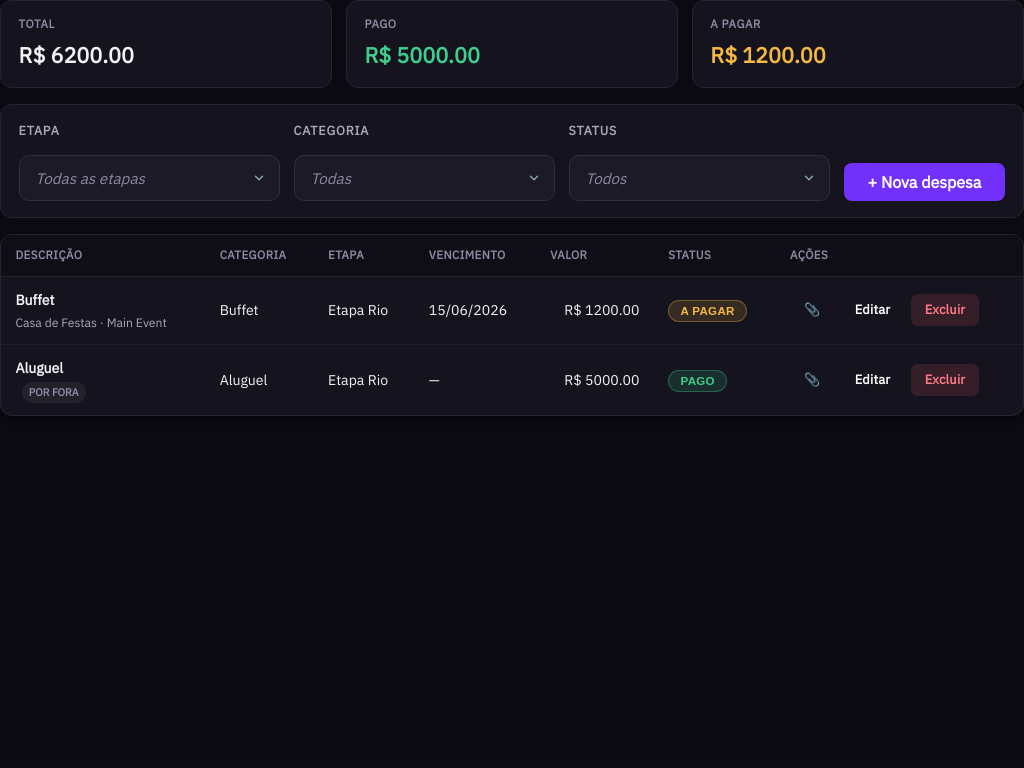
criação › valor precisa ser maior que zero
This screenshot has width=1024, height=768.
Expected: the row that starts with "Buffet" is shown, left=1, top=276, right=1023, bottom=345
Step 1. Click the button "+ Nova despesa" → (924, 182), box left=844, top=163, right=1005, bottom=201
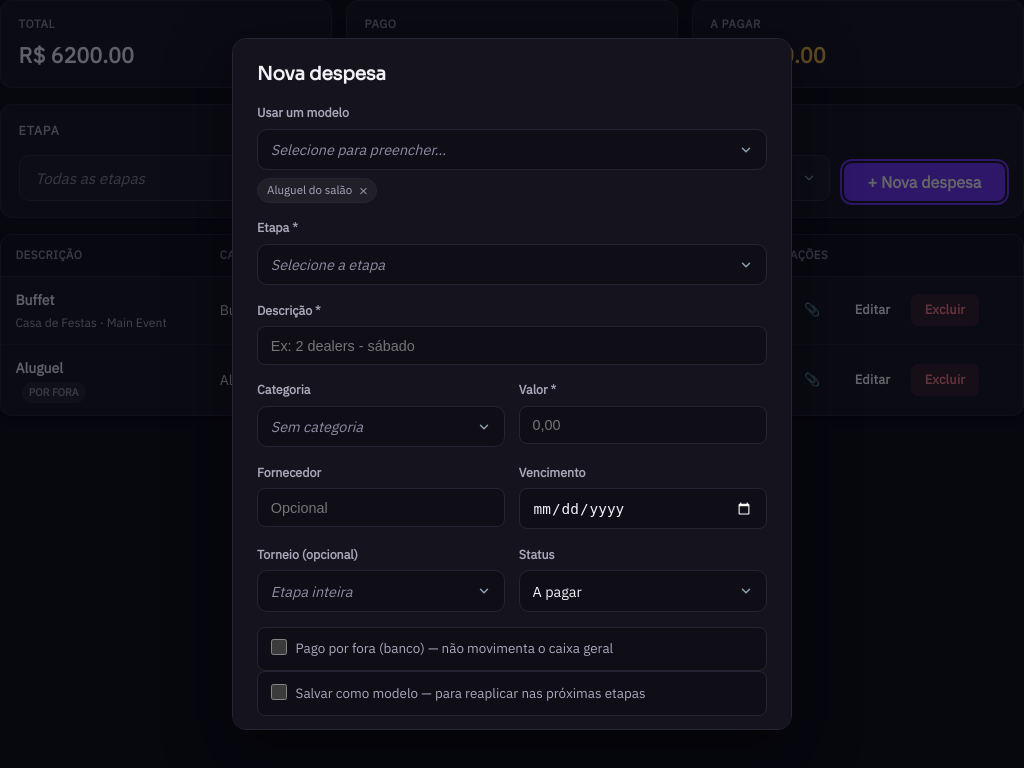
Step 2. Select "Etapa Rio" in the 2nd dropdown → (512, 264), box left=257, top=244, right=767, bottom=285
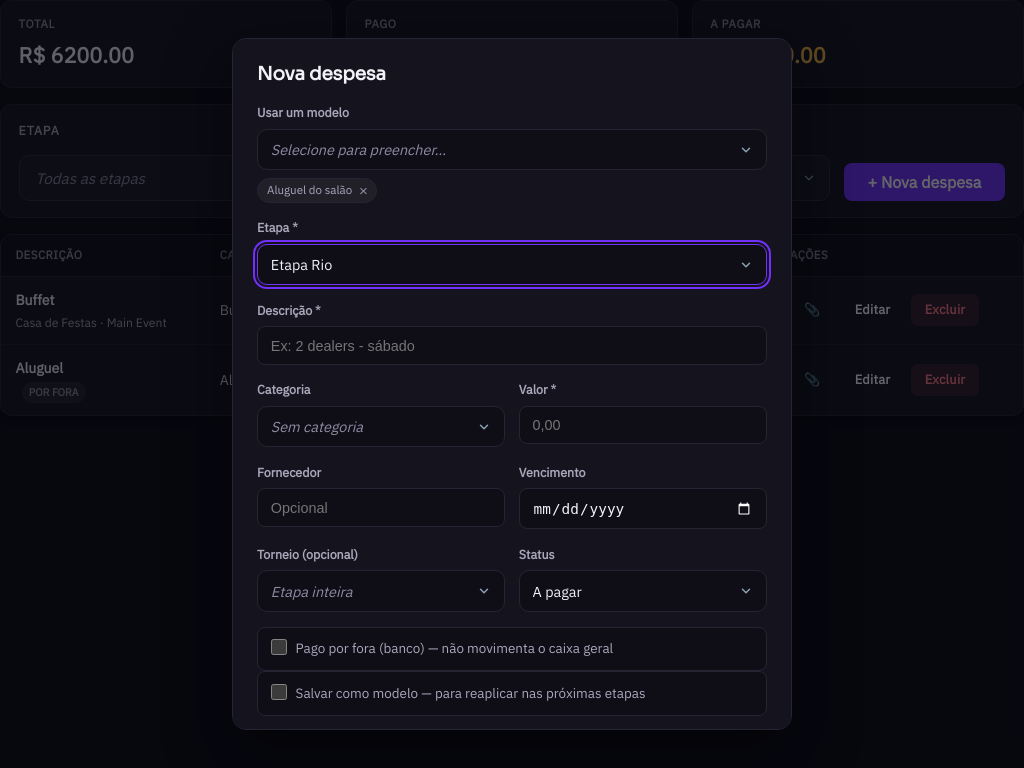
Step 3. Type "X" into the field with placeholder "Ex: 2 dealers - sábado" → (512, 346), box left=257, top=326, right=767, bottom=365
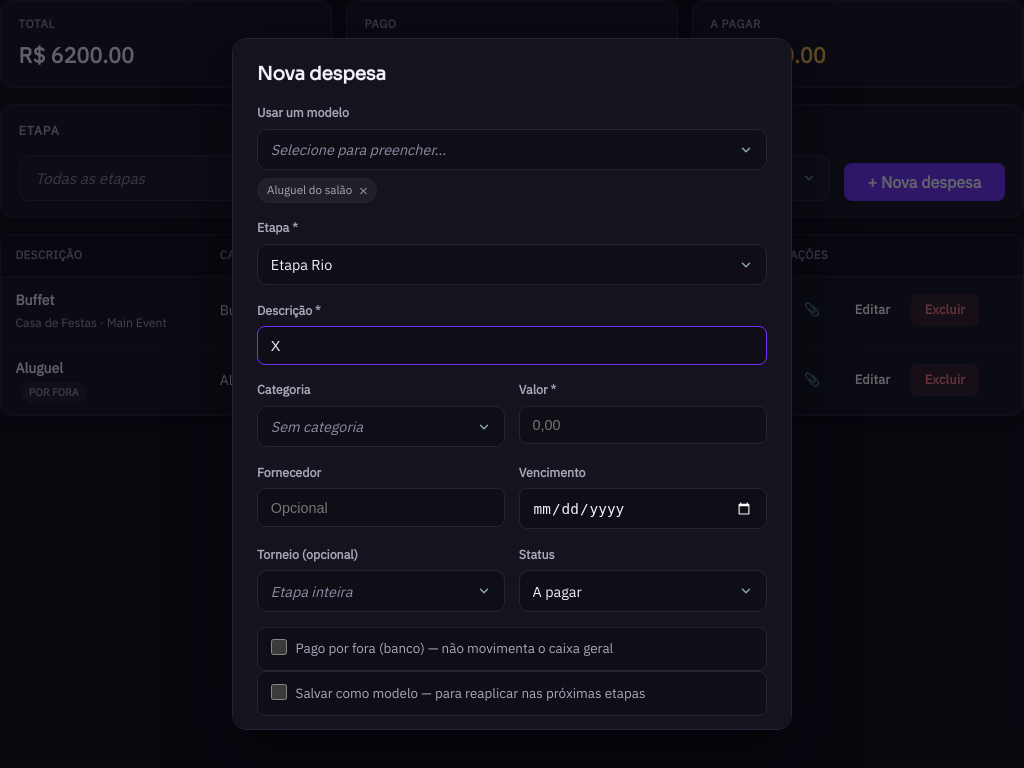
Step 4. Type "0" into the number field with placeholder "0,00" → (643, 425), box left=519, top=406, right=767, bottom=444
(page scrolled)
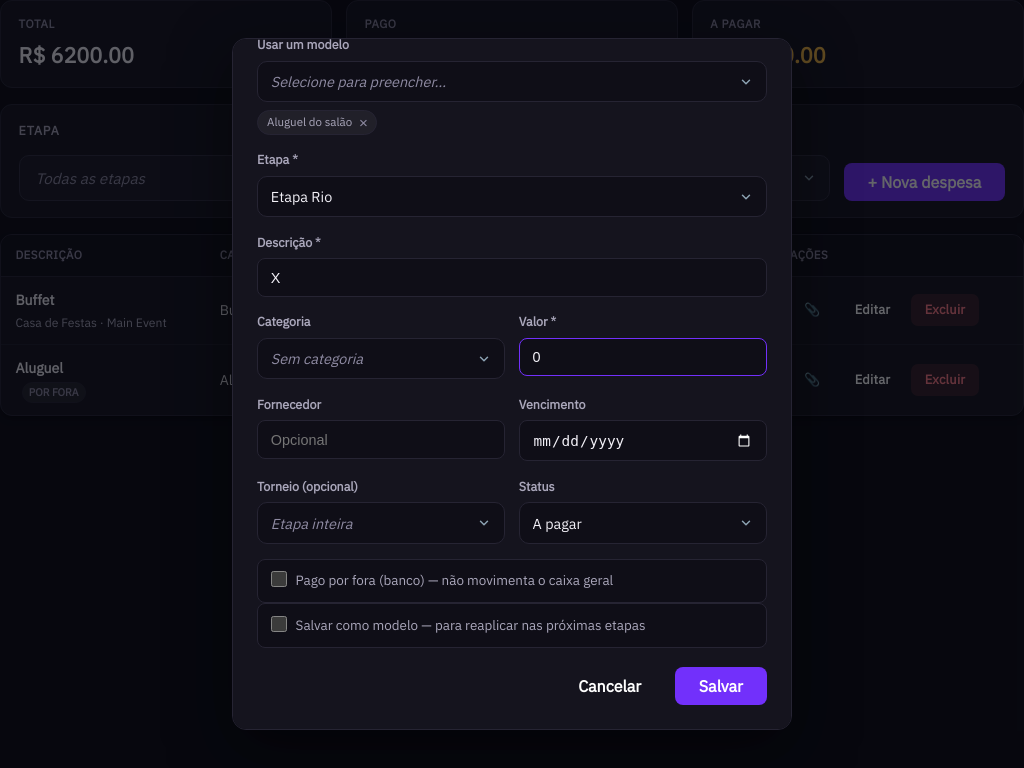
Step 5. Click the submit button → (721, 686), box left=675, top=667, right=767, bottom=705
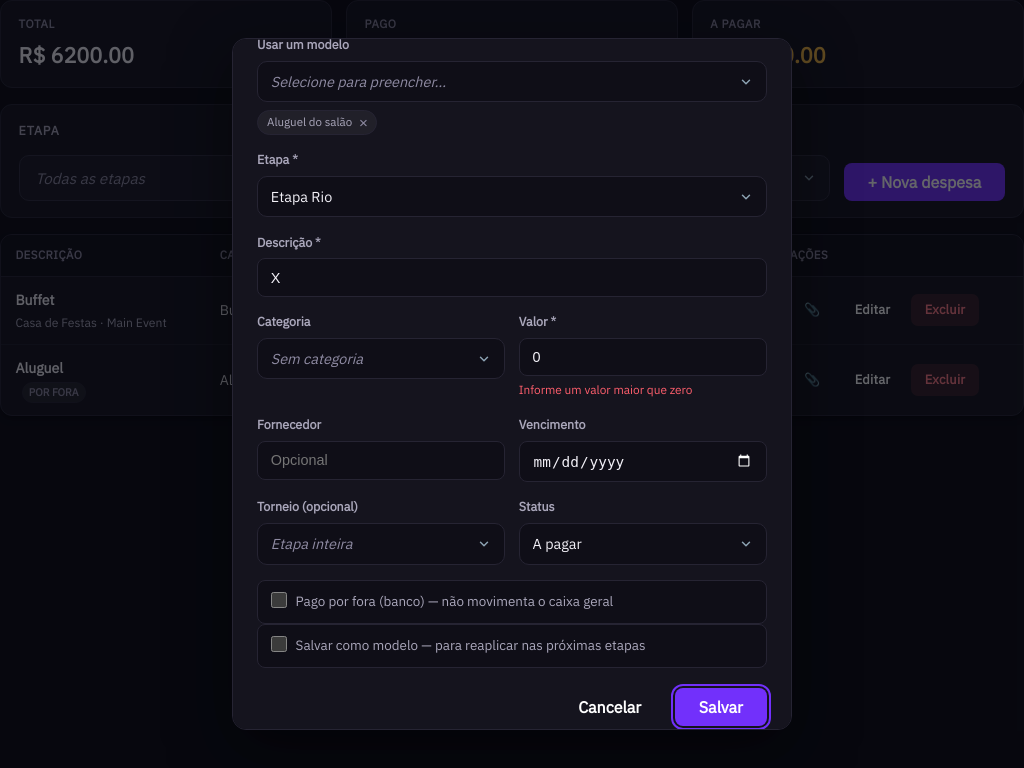
Expected: the text "Informe um valor maior que zero" is shown, left=519, top=382, right=692, bottom=397
